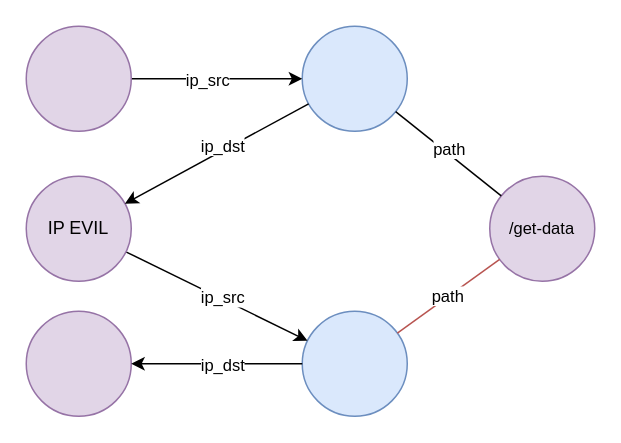
Some shapes in this 621 by 443 pixel diagram are drawn without their labels. Each missing label, with the centre of its shape:
"IP ALICE" goes at point (78, 78).
"IP BOB" goes at point (78, 363).
